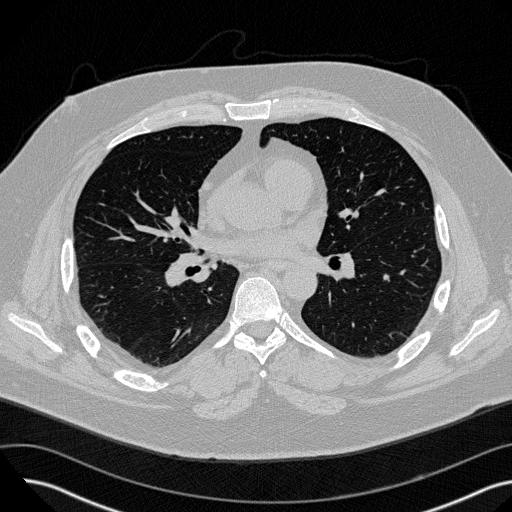nodule: (381, 272, 391, 282)
